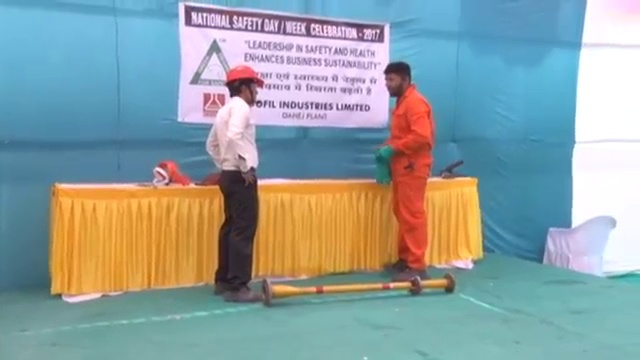helmet: (224, 63, 265, 91)
helmet_off: (383, 60, 411, 98)
helmet_on: (223, 63, 265, 110)
person: (204, 62, 263, 298), (381, 59, 436, 282)
